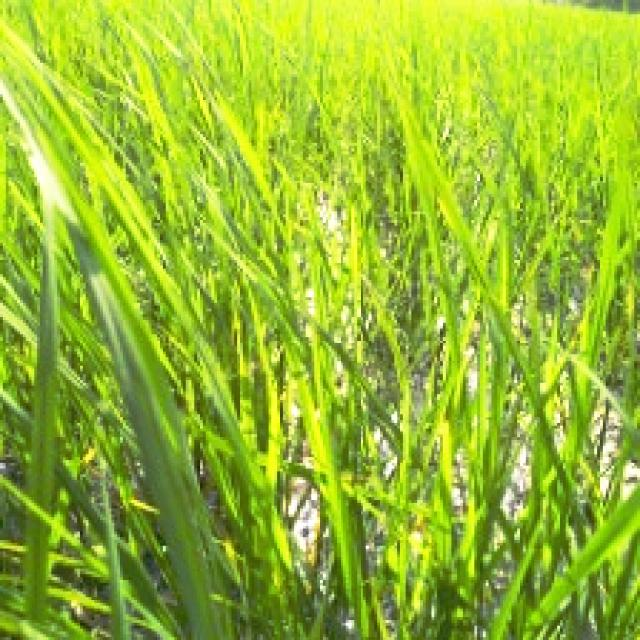health: (3, 3, 230, 195)
